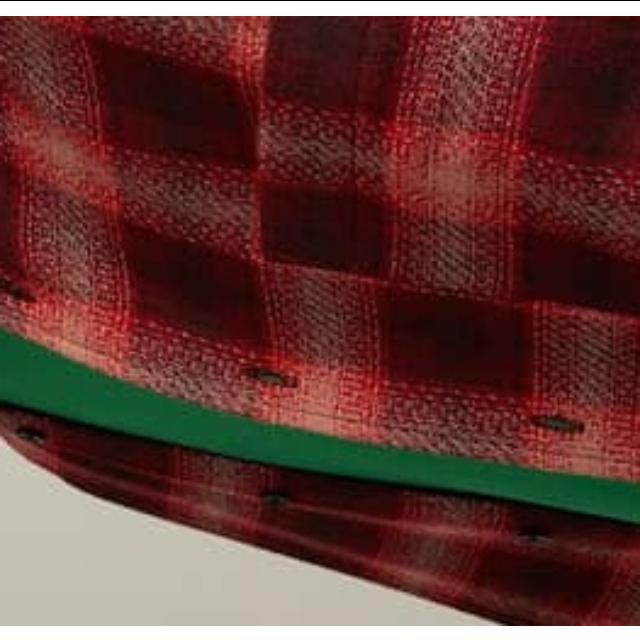wool: (0, 15, 640, 625)
